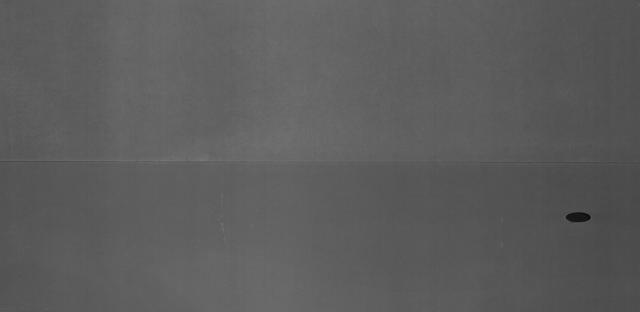punching_hole: (561, 207, 594, 227)
welding_line: (2, 154, 636, 172)
